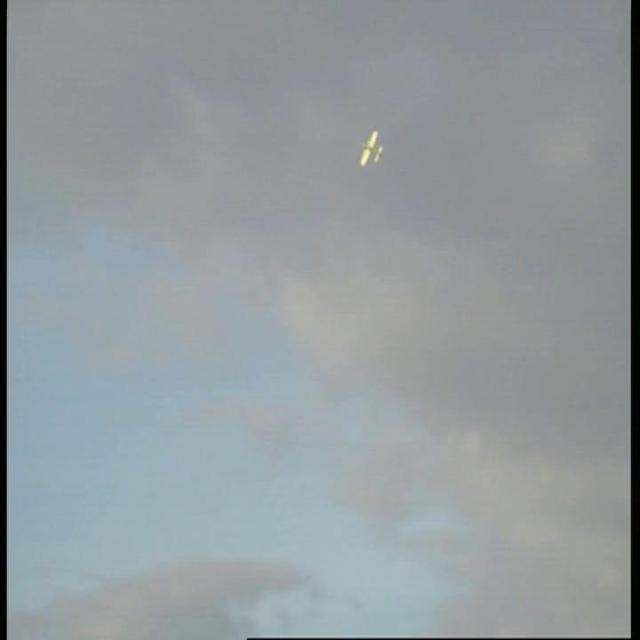drone: (357, 125, 387, 171)
